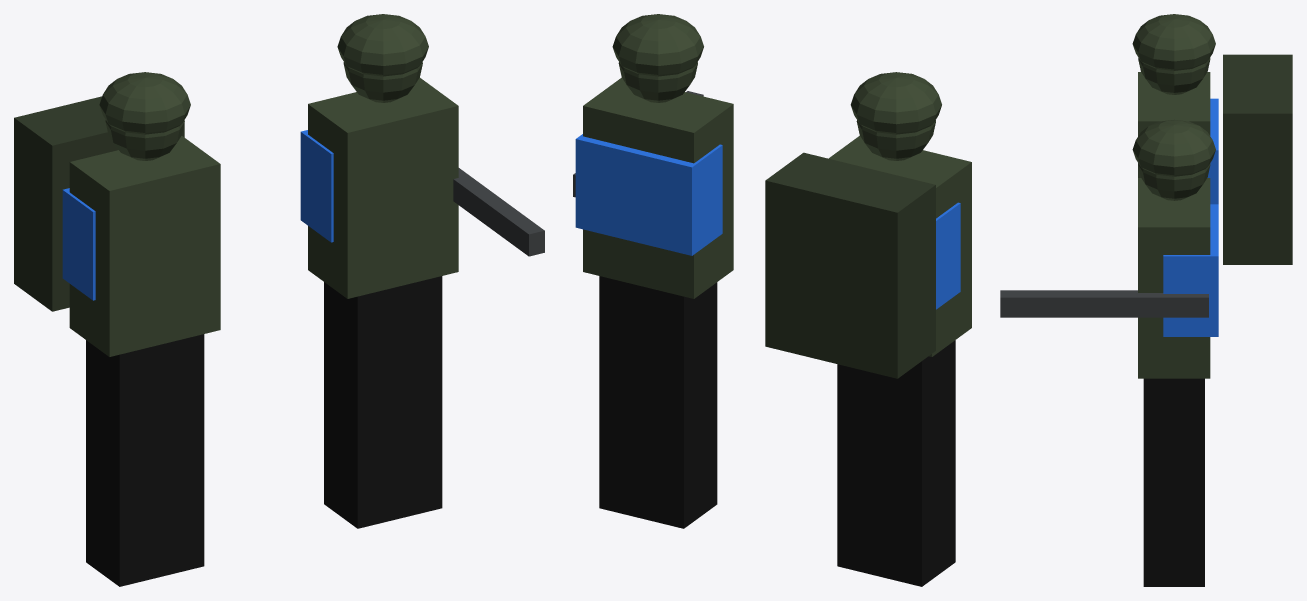
The model's file is ru_loitering_team.glb.
3 views of the same model, side by side, from view 1: azimuth 30°, elevation 25°; view 2: azimuth 150°, elevation 25°; view 3: azimuth 270°, elevation 25° (orthographic). The views are drawn at different scales.
Parts seen in each view (by area): view 1: soldier_0, soldier_1, torso_0, torso_1, case_0, helmet_0, helmet_1, rifle_1, vest_0, vest_1, head_1, head_0; view 2: case_0, soldier_1, soldier_0, torso_1, vest_1, torso_0, helmet_1, helmet_0, vest_0, head_1, head_0; view 3: case_0, soldier_1, torso_1, rifle_1, vest_1, helmet_0, helmet_1, torso_0, head_1, head_0, vest_0.
Part boxes in pixels (bbox=[...]): soldier_0: bbox=[86, 334, 204, 586]; soldier_1: bbox=[324, 276, 442, 528]; torso_0: bbox=[69, 136, 220, 356]; torso_1: bbox=[308, 77, 458, 298]; case_0: bbox=[14, 96, 184, 311]; helmet_0: bbox=[99, 72, 190, 134]; helmet_1: bbox=[337, 14, 428, 76]; rifle_1: bbox=[453, 168, 544, 256]; vest_0: bbox=[62, 188, 95, 300]; vest_1: bbox=[300, 130, 333, 242]; head_1: bbox=[343, 62, 422, 102]; head_0: bbox=[105, 120, 184, 160]; case_0: bbox=[765, 152, 935, 378]; soldier_1: bbox=[599, 276, 717, 528]; soldier_0: bbox=[837, 340, 955, 586]; torso_1: bbox=[583, 77, 733, 298]; vest_1: bbox=[575, 134, 722, 255]; torso_0: bbox=[829, 135, 971, 356]; helmet_1: bbox=[612, 14, 703, 76]; helmet_0: bbox=[850, 72, 941, 134]; vest_0: bbox=[936, 202, 960, 309]; head_1: bbox=[618, 62, 697, 102]; head_0: bbox=[856, 120, 935, 160]; case_0: bbox=[1223, 54, 1292, 264]; soldier_1: bbox=[1143, 378, 1204, 586]; torso_1: bbox=[1138, 178, 1210, 378]; rifle_1: bbox=[1000, 290, 1208, 317]; vest_1: bbox=[1163, 204, 1218, 336]; helmet_0: bbox=[1132, 14, 1215, 70]; helmet_1: bbox=[1132, 119, 1215, 176]; torso_0: bbox=[1138, 72, 1210, 177]; head_1: bbox=[1138, 163, 1210, 200]; head_0: bbox=[1138, 58, 1210, 94]; vest_0: bbox=[1207, 98, 1218, 204].
Size of the model in its own units: 1.82 by 2.28 by 1.37.
